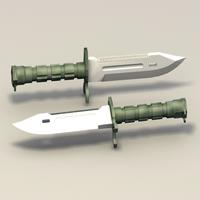knife: (5, 45, 191, 95), (5, 103, 200, 142)
